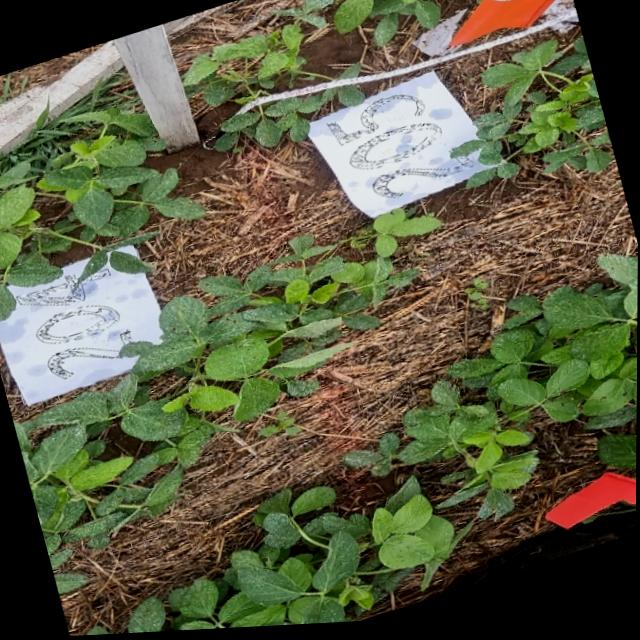caruru_weed: (258, 413, 302, 439), (465, 281, 488, 313)
grassy_weed: (0, 74, 156, 177)
soy_plant: (15, 212, 438, 567), (348, 260, 638, 512), (127, 480, 466, 635), (0, 108, 203, 320), (452, 44, 612, 189), (183, 24, 322, 108), (213, 89, 363, 153), (320, 0, 439, 45), (478, 493, 514, 524), (54, 572, 87, 594)
